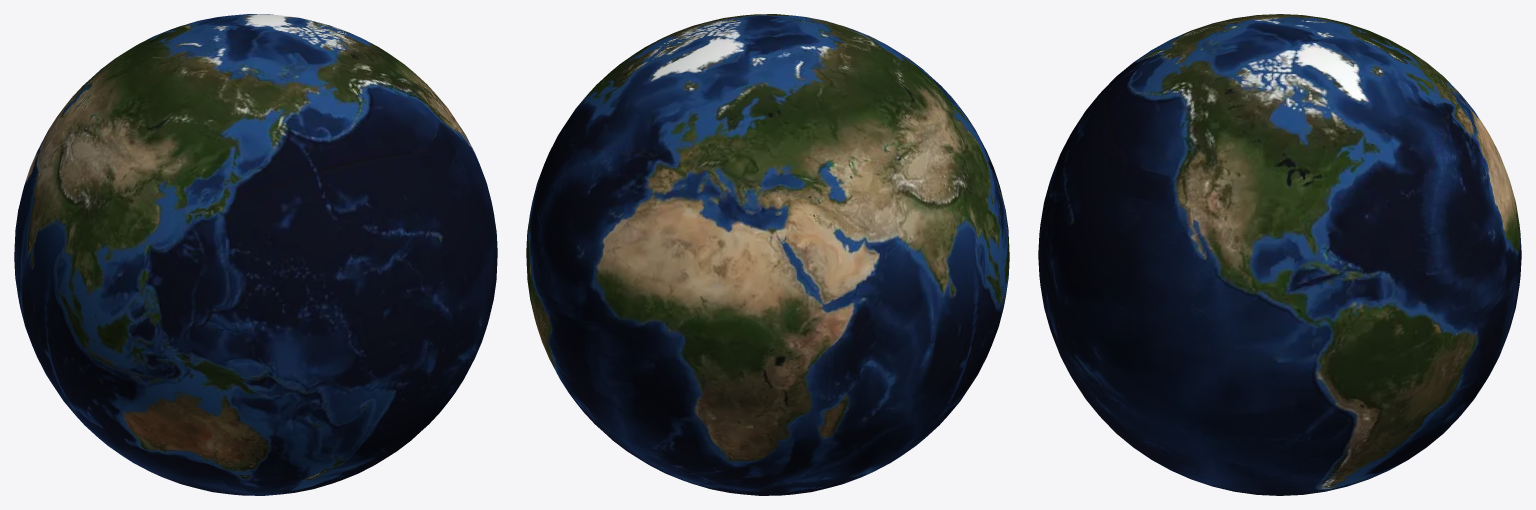
The model's file is earth-transformed.glb.
3 views of the same model, side by side, from view 1: azimuth 30°, elevation 25°; view 2: azimuth 150°, elevation 25°; view 3: azimuth 270°, elevation 25° (orthographic).
Parts seen in each view (by area): view 1: Cube.001; view 2: Cube.001; view 3: Cube.001.
Part boxes in pixels (<box>): Cube.001: <box>14,14,497,495</box>; Cube.001: <box>526,14,1009,495</box>; Cube.001: <box>1038,14,1521,495</box>.
Bounding box in the file's own units: 1000 × 997 × 1000.
1 material, 1 textured.
